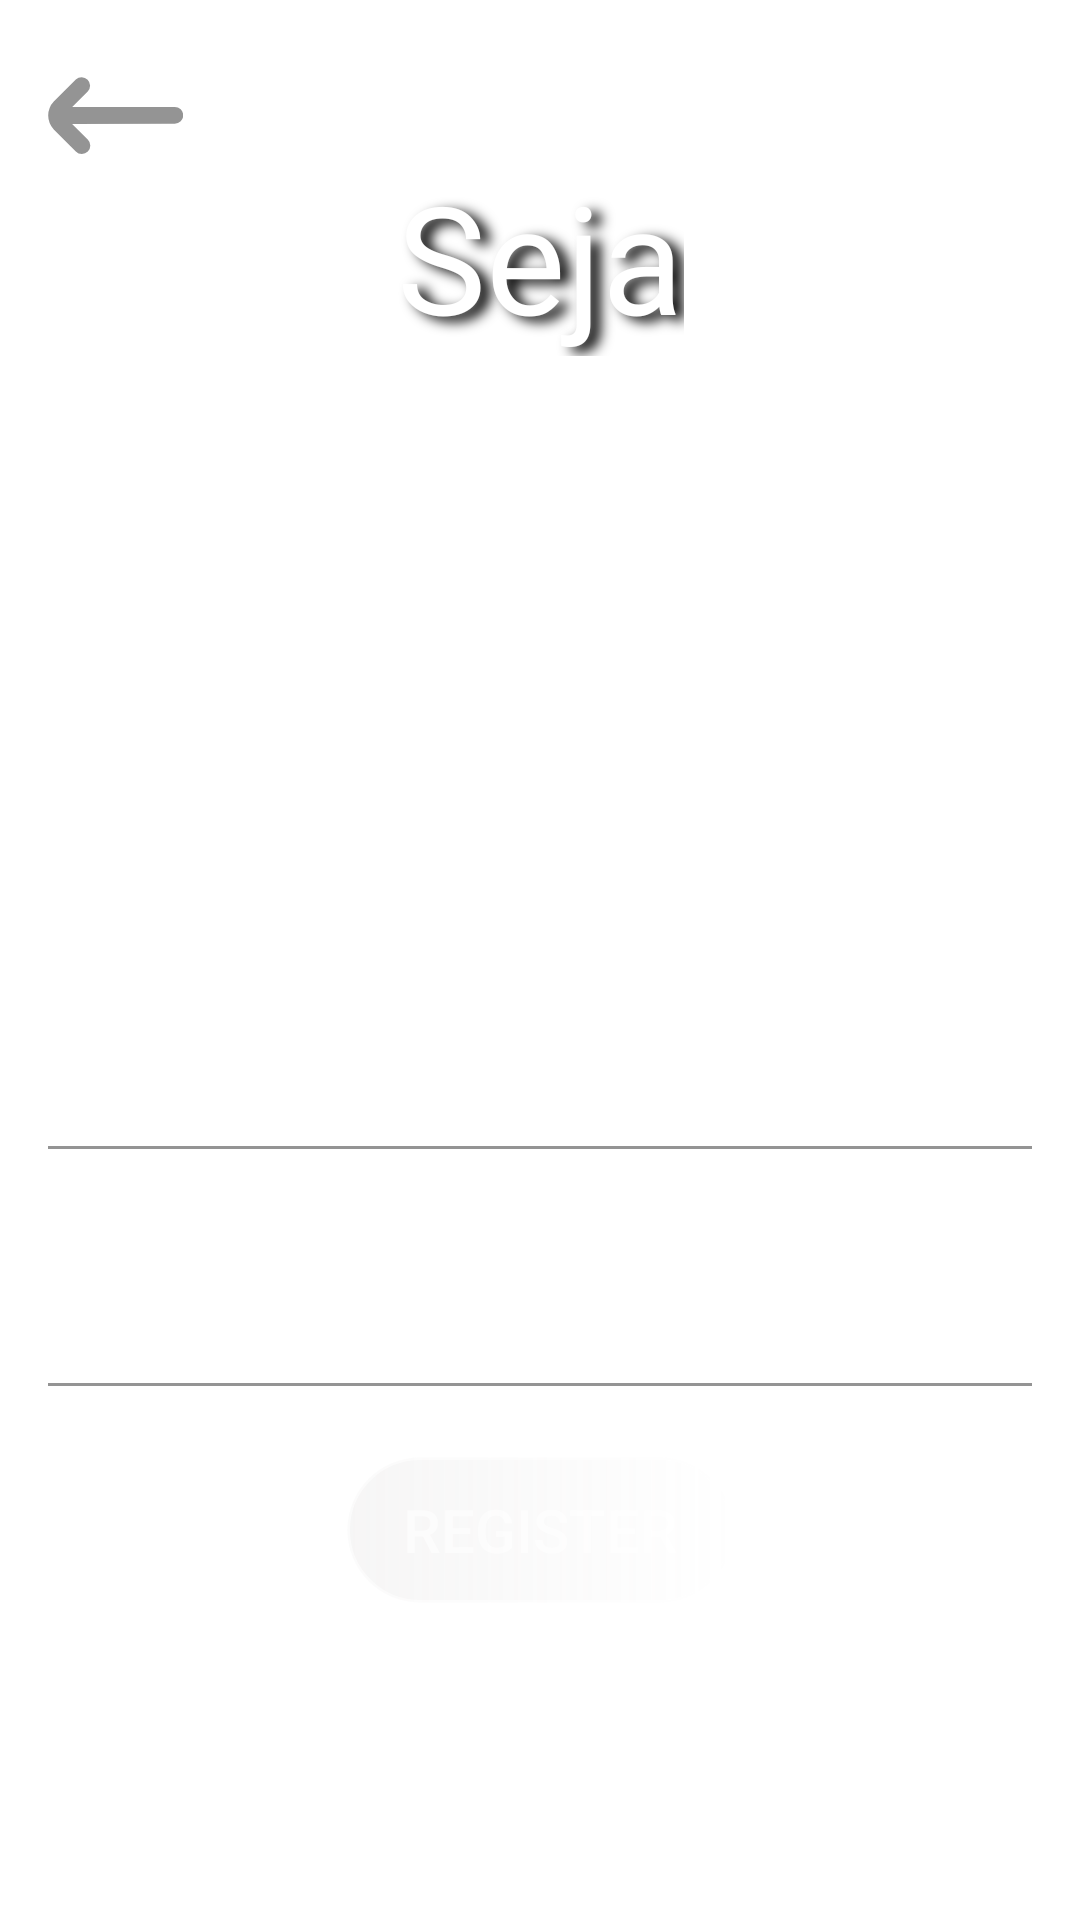

Where to tap for icons on this 1080*1920 app screen, as (x=x, y=y):
arrow left: (x=115, y=115)
